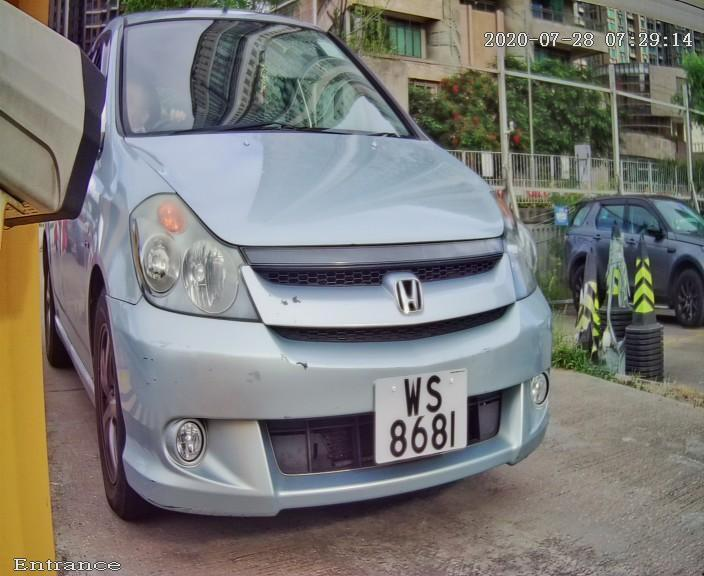privatecar: (32, 8, 610, 569)
